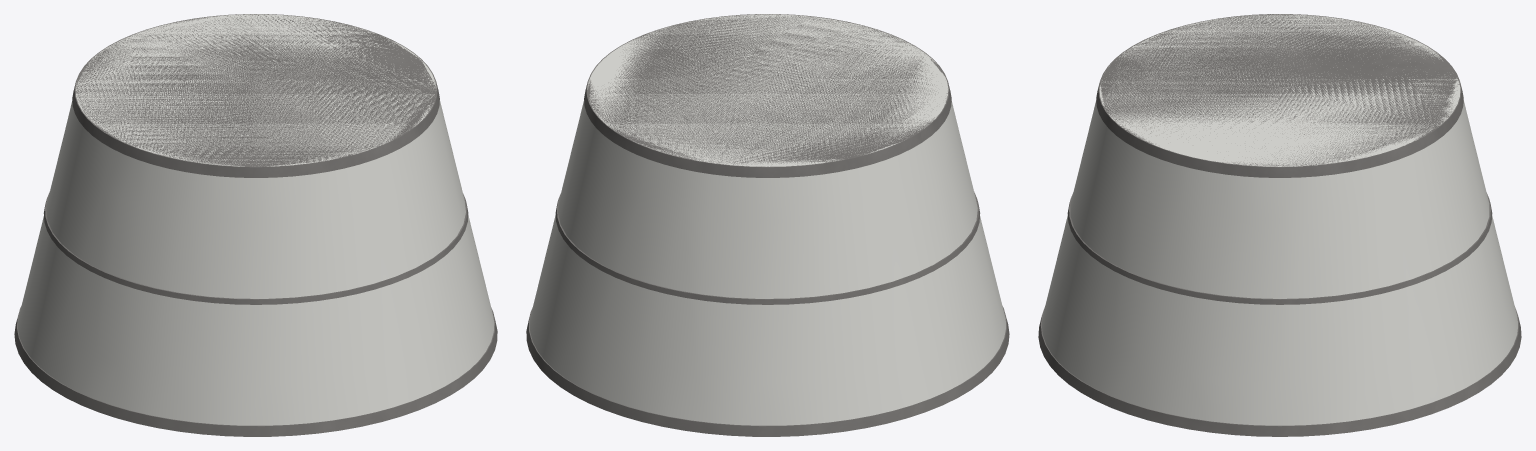
The model's file is tank12_tank_adapter_l_xl.glb.
The picture shows the model from 3 angles, left to right: view 1: azimuth 30°, elevation 25°; view 2: azimuth 150°, elevation 25°; view 3: azimuth 270°, elevation 25°; orthographic projection.
Visible parts, largest first — view 1: shell, ring_frames, mid_frame; view 2: shell, ring_frames, mid_frame; view 3: shell, ring_frames, mid_frame.
Part boxes in pixels (x1,y1,x2,y2): shell: [18, 14, 494, 425]; ring_frames: [14, 14, 497, 436]; mid_frame: [43, 191, 468, 304]; shell: [529, 14, 1005, 425]; ring_frames: [526, 14, 1009, 436]; mid_frame: [555, 191, 980, 304]; shell: [1042, 14, 1517, 425]; ring_frames: [1038, 14, 1521, 436]; mid_frame: [1067, 193, 1492, 304].
Bounding box in the file's own units: 5.02 × 2.8 × 5.02.
3 materials, 1 textured.
